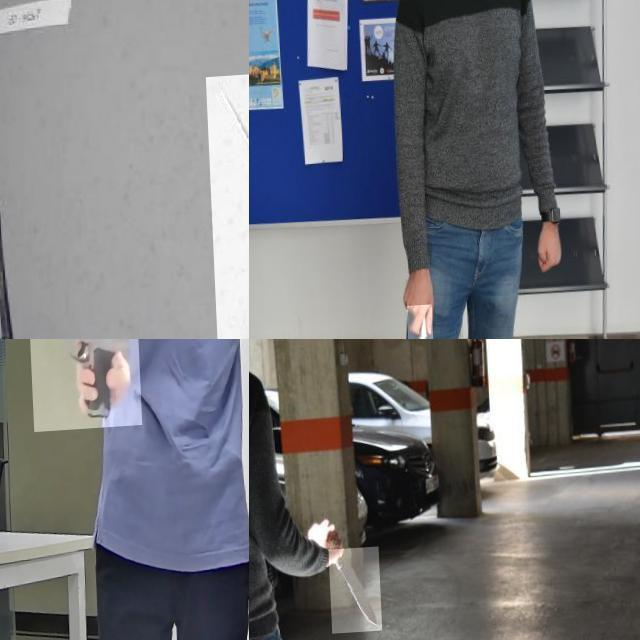-: (326, 550, 379, 637)
gun-knife-thesis - v11 Yolov5 augmented: (26, 339, 139, 434)
